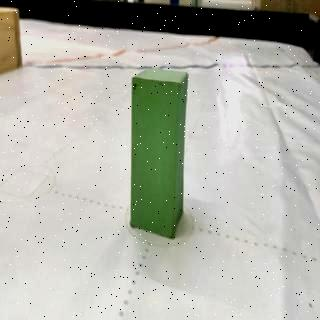greenbox: (128, 65, 188, 240)
